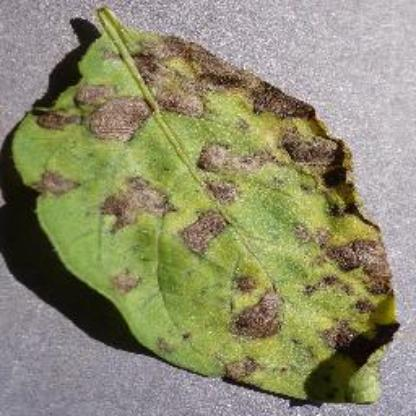Early-Blight: (16, 6, 402, 406)
